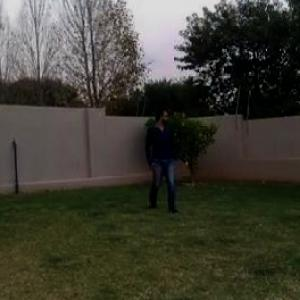follow: (150, 103, 178, 215)
